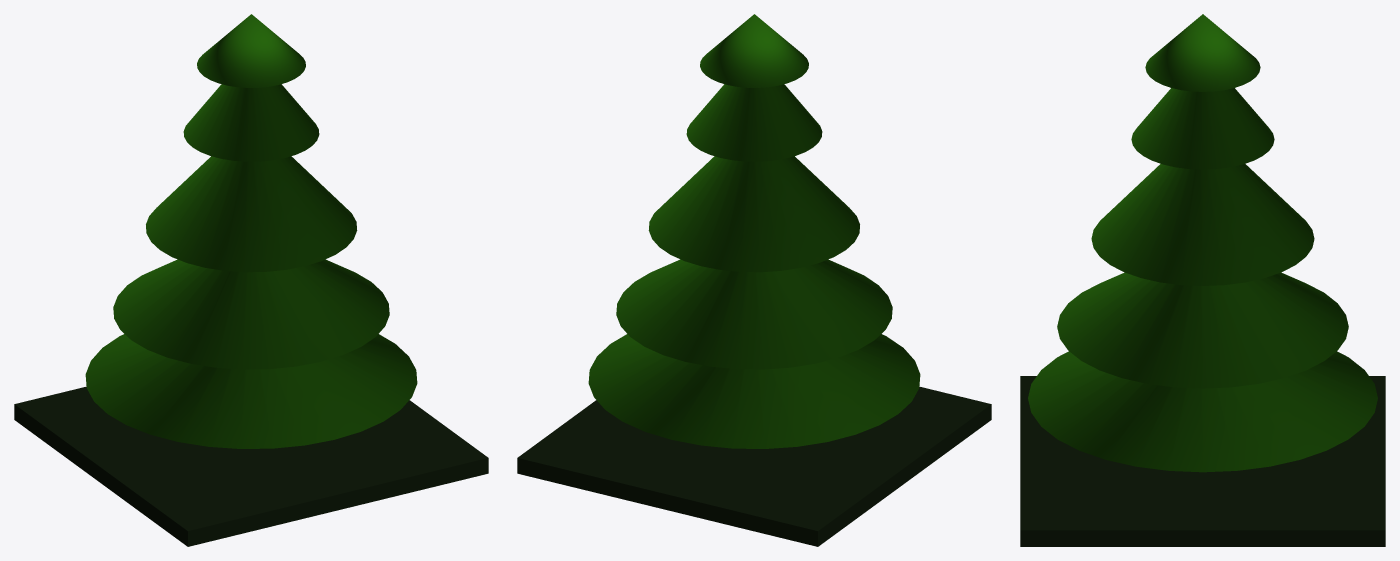
The model's file is greentree.glb.
3 views of the same model, side by side, from view 1: azimuth 30°, elevation 25°; view 2: azimuth 150°, elevation 25°; view 3: azimuth 270°, elevation 25° (orthographic). The views are drawn at different scales.
Parts seen in each view (by area): view 1: Cylinder, Cube; view 2: Cylinder, Cube; view 3: Cylinder, Cube.
Part boxes in pixels (x1,y1,x2,y2): Cylinder: (85,14,417,448); Cube: (14,386,488,546); Cylinder: (588,14,920,448); Cube: (517,386,991,546); Cylinder: (1028,14,1377,472); Cube: (1020,376,1385,546).
Bounding box in the file's own units: 0.05 × 0.0688 × 0.05.
